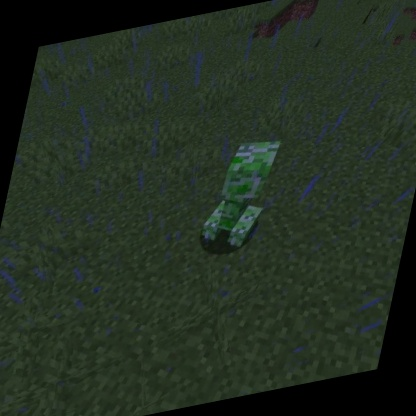creeper: (192, 131, 288, 260)
